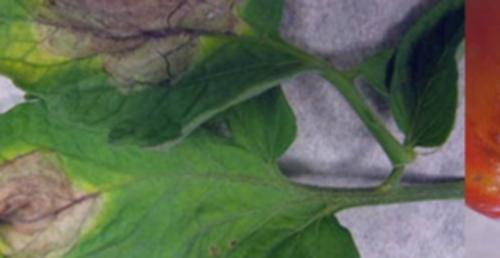Tomato leaf late blight: (0, 98, 400, 258), (0, 0, 335, 150)
